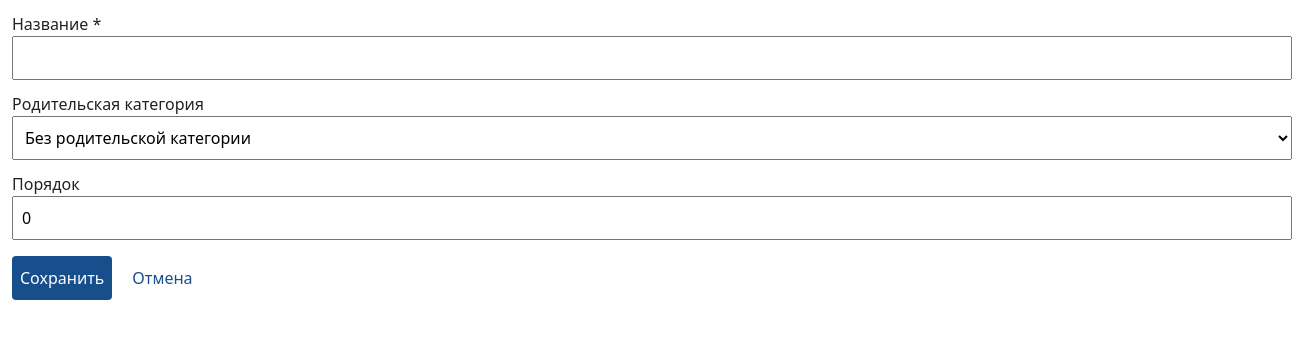
Scenario: category form › blocks invalid sort order
The image size is (1304, 357).
Type "Категория" into the field with id "category-name" at coordinates (652, 58), box [12,36,1292,80]
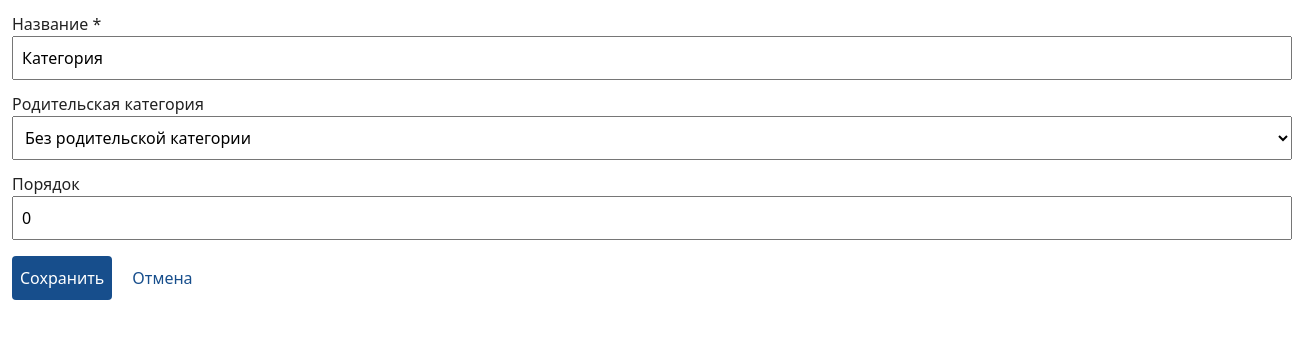
Clear the number field with id "category-order" at coordinates (652, 218), box [12,196,1292,240]
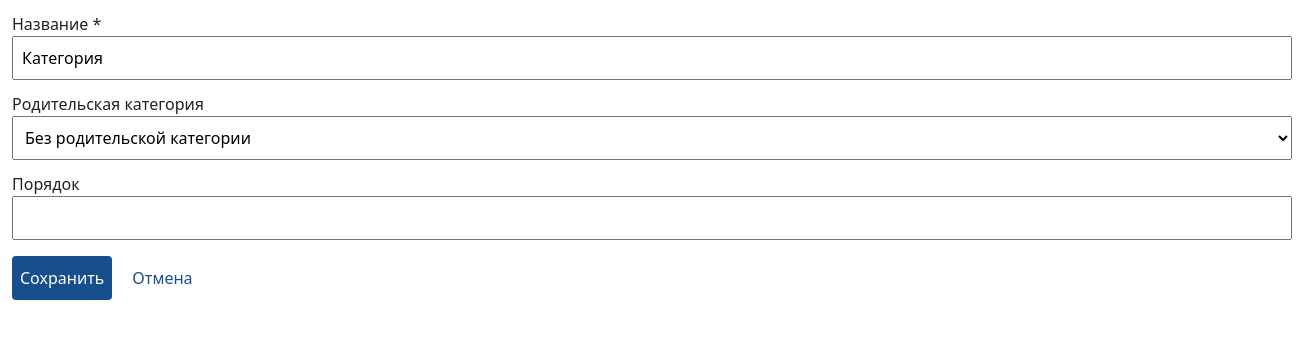
Submit the form
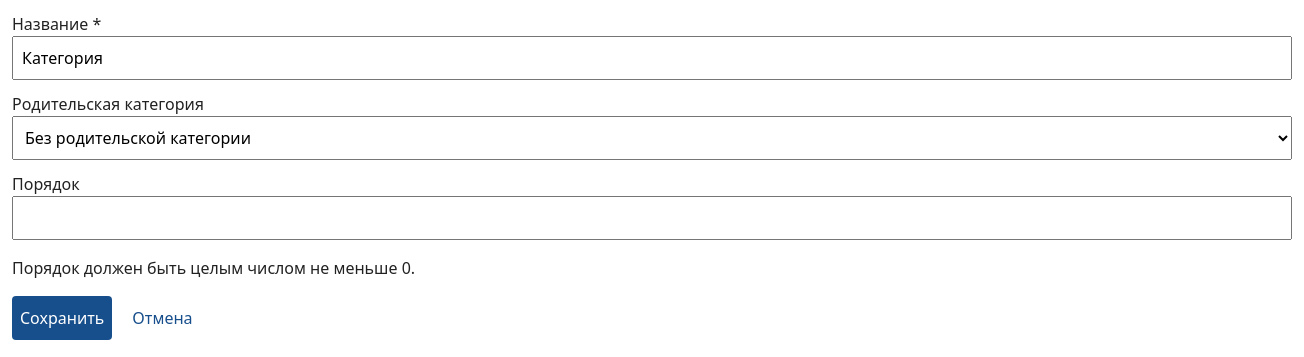
Now the message "Порядок должен быть целым числом не меньше 0." is shown, box [12,257,415,279]
